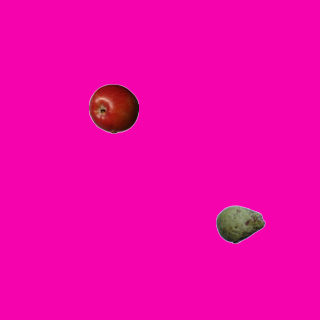Apple Braeburn: (88, 83, 138, 133)
Pear Stone: (215, 199, 265, 249)
